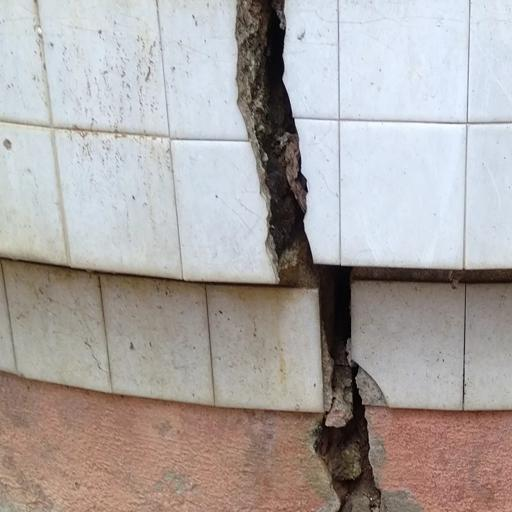major_crack: (225, 0, 401, 512)
